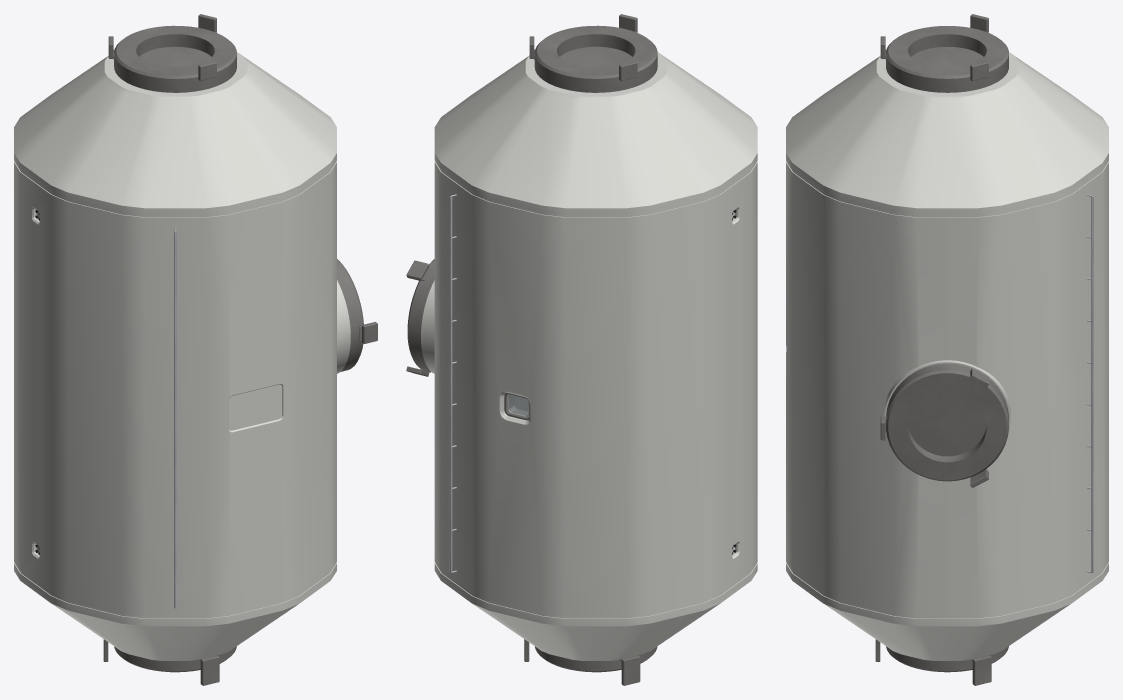
File: ax_station_11_workshop.glb
The picture shows the model from 3 angles, left to right: view 1: azimuth 30°, elevation 25°; view 2: azimuth 150°, elevation 25°; view 3: azimuth 270°, elevation 25°; orthographic projection.
Parts seen in each view (by area): view 1: pressure_hull, port_top, port_1, handrails, hatch_door_2, port_bottom, port_1_pedestal, port_top_petals, port_bottom_petals; view 2: pressure_hull, port_top, handrails, port_1, hatch_door_2, port_bottom, port_1_pedestal, port_top_petals, port_bottom_petals; view 3: pressure_hull, port_1, port_top, hatch_door_3, handrails, hatch_door_2, port_bottom, port_1_pedestal, port_top_petals, port_bottom_petals, port_1_petals.
Boxes of the visible parts, left/top/right/bottom form: pressure_hull: left=14, top=52, right=336, bottom=660; port_top: left=114, top=25, right=236, bottom=92; port_1: left=337, top=259, right=363, bottom=371; handrails: left=174, top=228, right=176, bottom=608; hatch_door_2: left=139, top=46, right=211, bottom=67; port_bottom: left=114, top=646, right=236, bottom=672; port_1_pedestal: left=337, top=280, right=350, bottom=373; port_top_petals: left=108, top=14, right=216, bottom=80; port_bottom_petals: left=103, top=639, right=219, bottom=685; pressure_hull: left=434, top=52, right=757, bottom=660; port_top: left=534, top=25, right=657, bottom=92; handrails: left=449, top=194, right=456, bottom=573; port_1: left=407, top=259, right=434, bottom=371; hatch_door_2: left=560, top=46, right=632, bottom=67; port_bottom: left=535, top=646, right=657, bottom=672; port_1_pedestal: left=421, top=280, right=434, bottom=373; port_top_petals: left=529, top=14, right=637, bottom=81; port_bottom_petals: left=524, top=639, right=640, bottom=685; pressure_hull: left=786, top=52, right=1108, bottom=660; port_1: left=886, top=363, right=1008, bottom=481; port_top: left=886, top=26, right=1008, bottom=92; hatch_door_3: left=908, top=391, right=986, bottom=456; handrails: left=1087, top=194, right=1093, bottom=573; hatch_door_2: left=911, top=46, right=983, bottom=67; port_bottom: left=886, top=646, right=1008, bottom=672; port_1_pedestal: left=884, top=360, right=1010, bottom=433; port_top_petals: left=880, top=14, right=988, bottom=80; port_bottom_petals: left=875, top=639, right=991, bottom=685; port_1_petals: left=880, top=368, right=988, bottom=487.
Size of the model in its own units: 4.64 by 8.87 by 4.2.
Materials: 5 (2 with a texture image).
